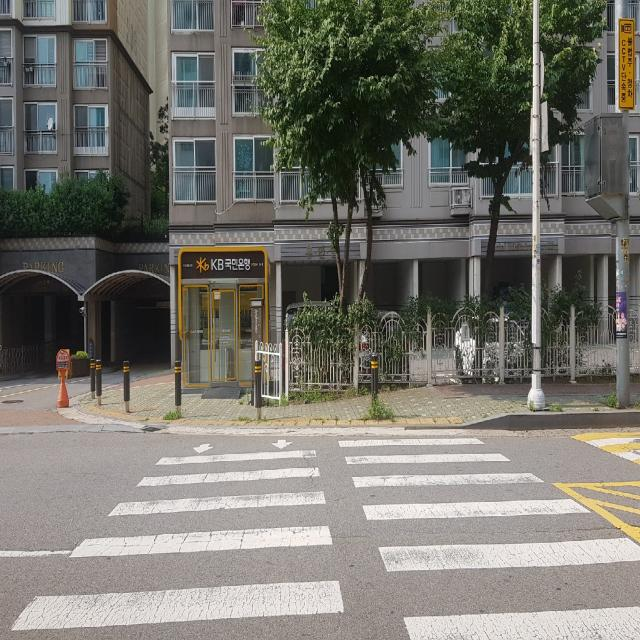횡단보도: (11, 438, 640, 640)
